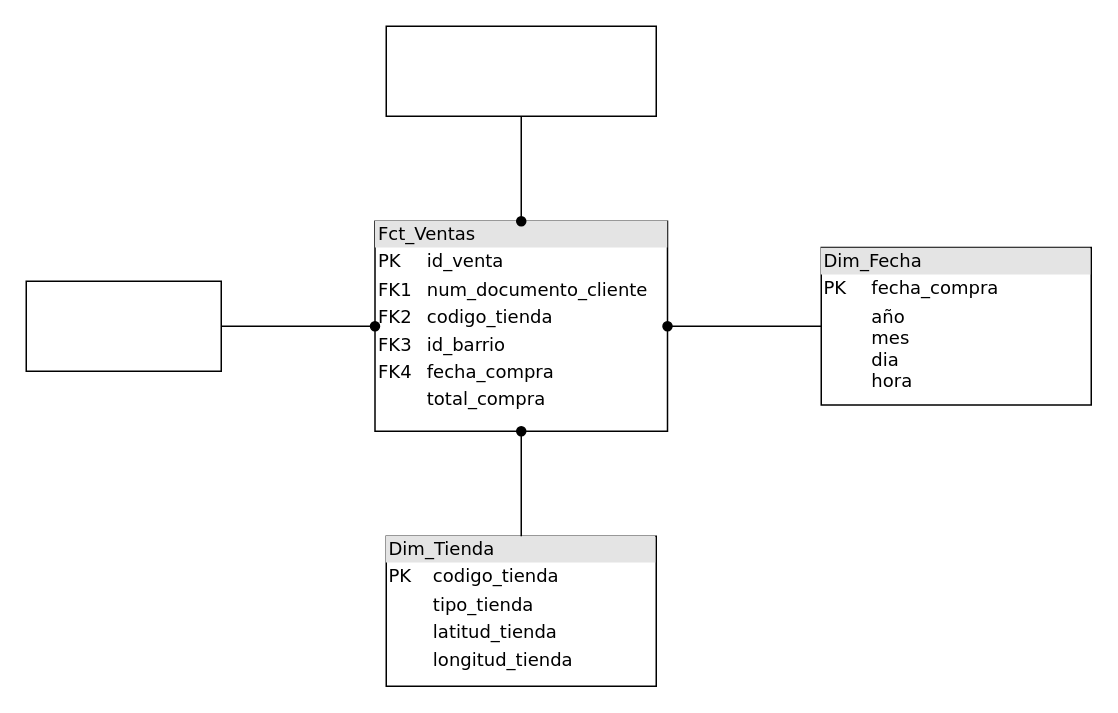
This 1118x713 diagram has some shape labels left out. Each missing label, with the box of its shape:
Dim_Barrio PK id_barrio nombre_barrio: (25, 280, 221, 371)
Dim_Cliente PK num_documento_cliente tipo_documento_cliente: (385, 25, 656, 116)
